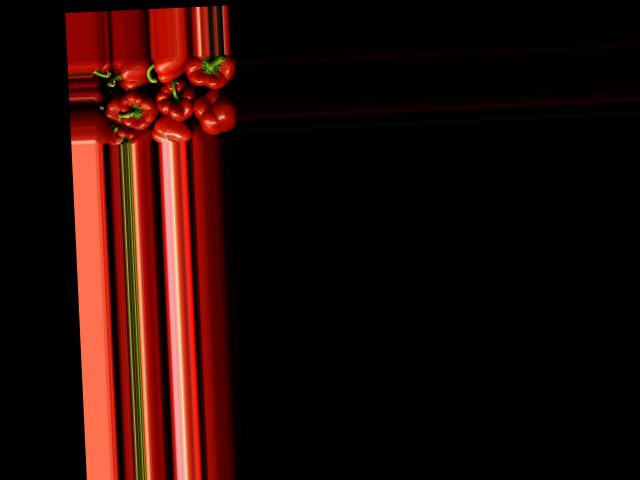bell_pepper: (152, 117, 193, 141)
